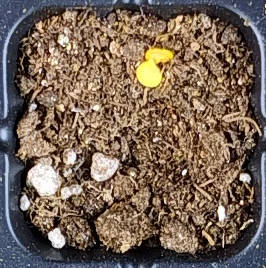chilli seed: (136, 60, 163, 87), (145, 48, 174, 63)
